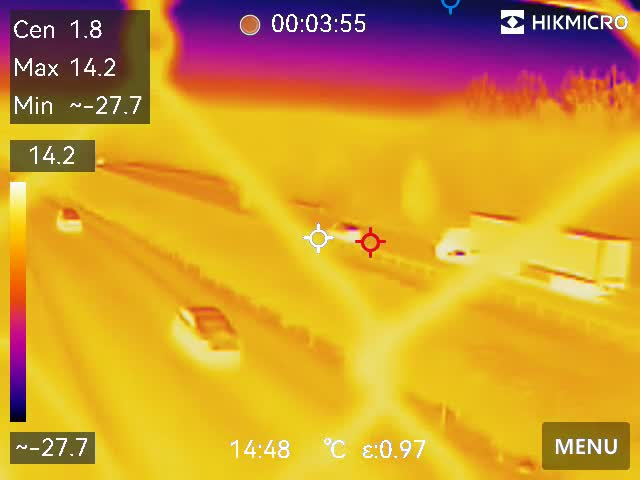heavyTruck: (436, 203, 634, 296)
vehicle: (168, 299, 243, 360), (325, 218, 364, 244), (52, 202, 81, 235)
